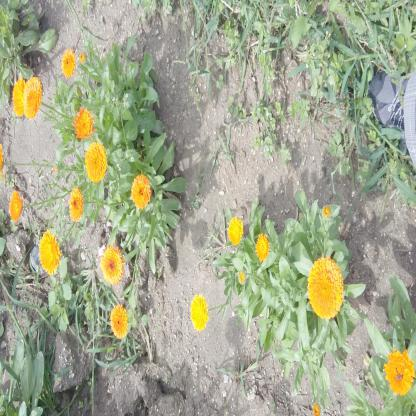marigold: (307, 258, 342, 318), (385, 350, 415, 397), (102, 245, 124, 286), (40, 231, 60, 274), (86, 144, 107, 181), (24, 79, 42, 120), (73, 108, 95, 140), (132, 174, 150, 208), (192, 295, 209, 331), (110, 306, 127, 338), (13, 78, 25, 118), (70, 188, 82, 221), (229, 218, 243, 245), (10, 192, 22, 223), (256, 233, 268, 260), (62, 52, 75, 76)
